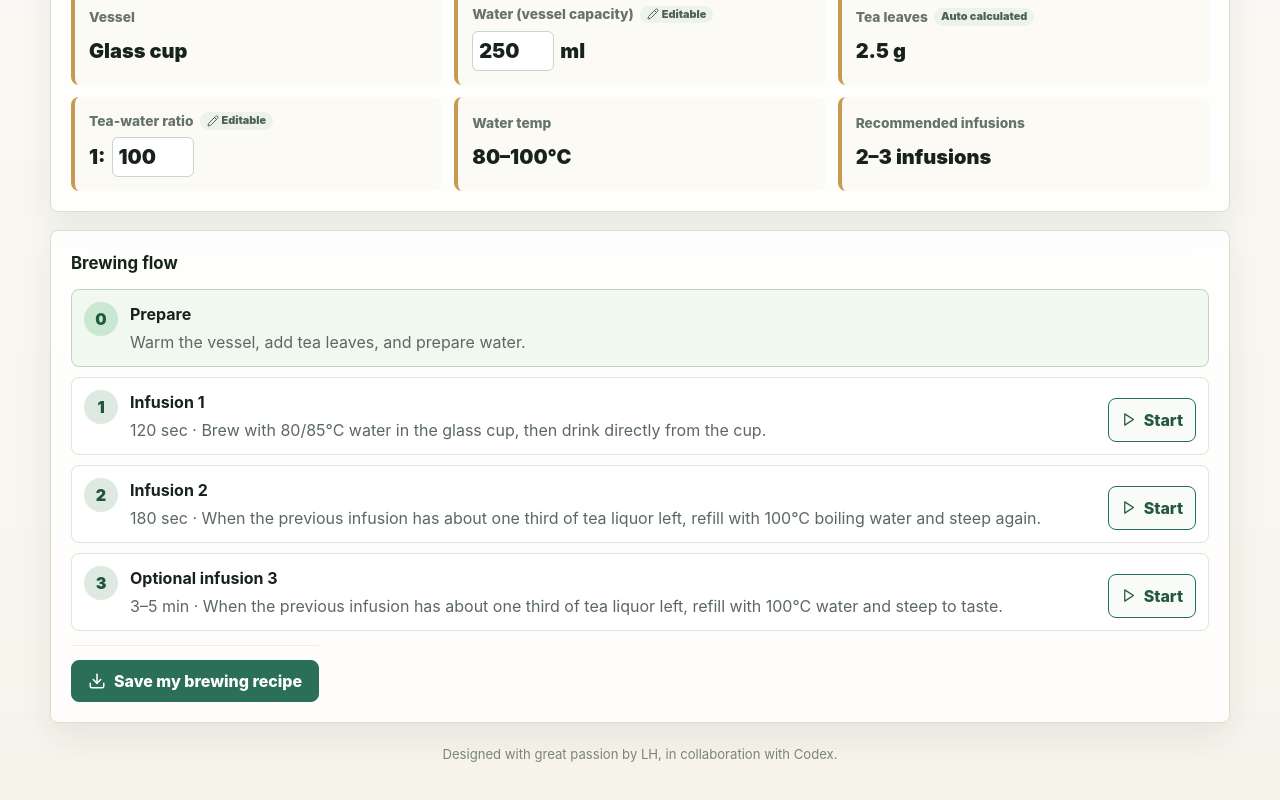
it: Tea Master app › keeps a closed running timer visible in its brewing step button
(page scrolled)
Expected: the list item "Infusion 1" is shown, [130, 392, 204, 412]
Step 1. Click the button "Start" in the row of "Infusion 1" → (1152, 420), box [1108, 398, 1196, 442]
Wait 1000 ms
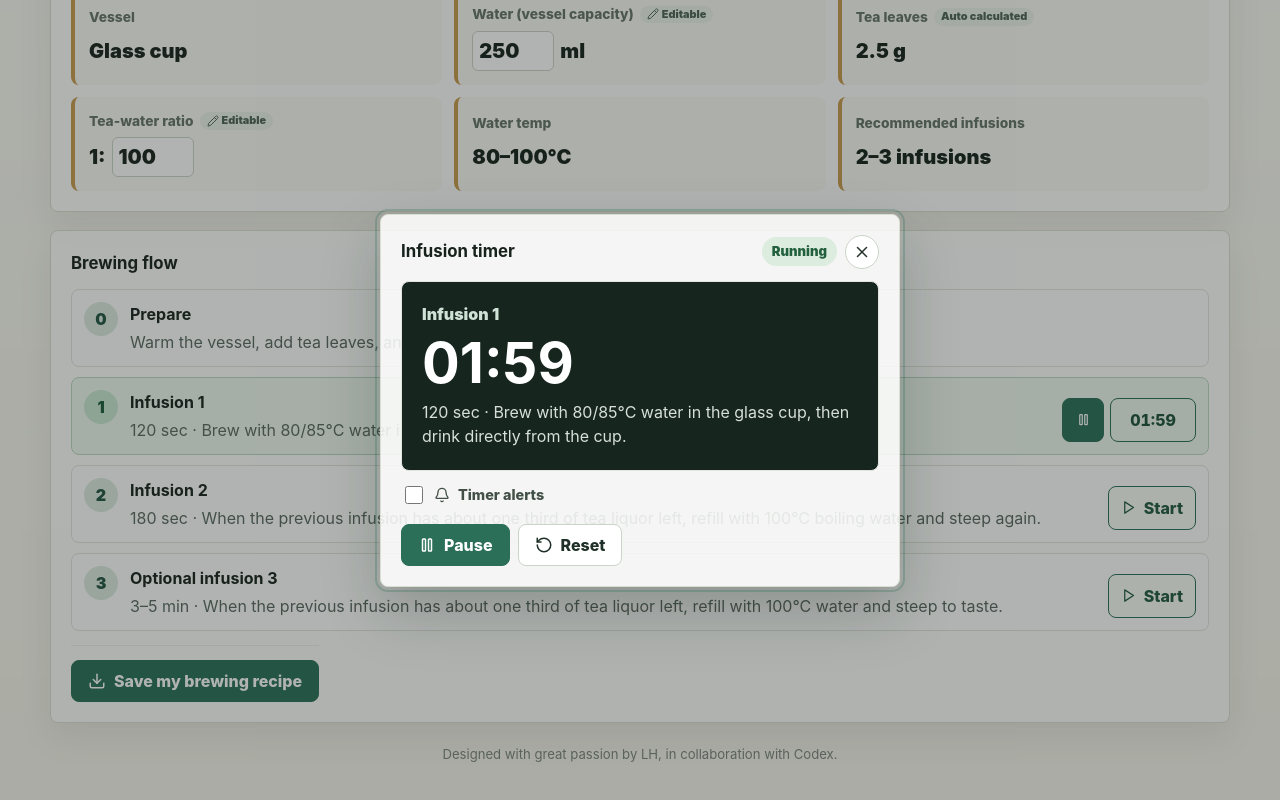
Result: the text with test id "timer-display" reads "01:59" at [422, 329, 574, 397]
Step 2. Click the button named "Close timer" → (862, 252), box [845, 234, 879, 268]
Wait 1000 ms
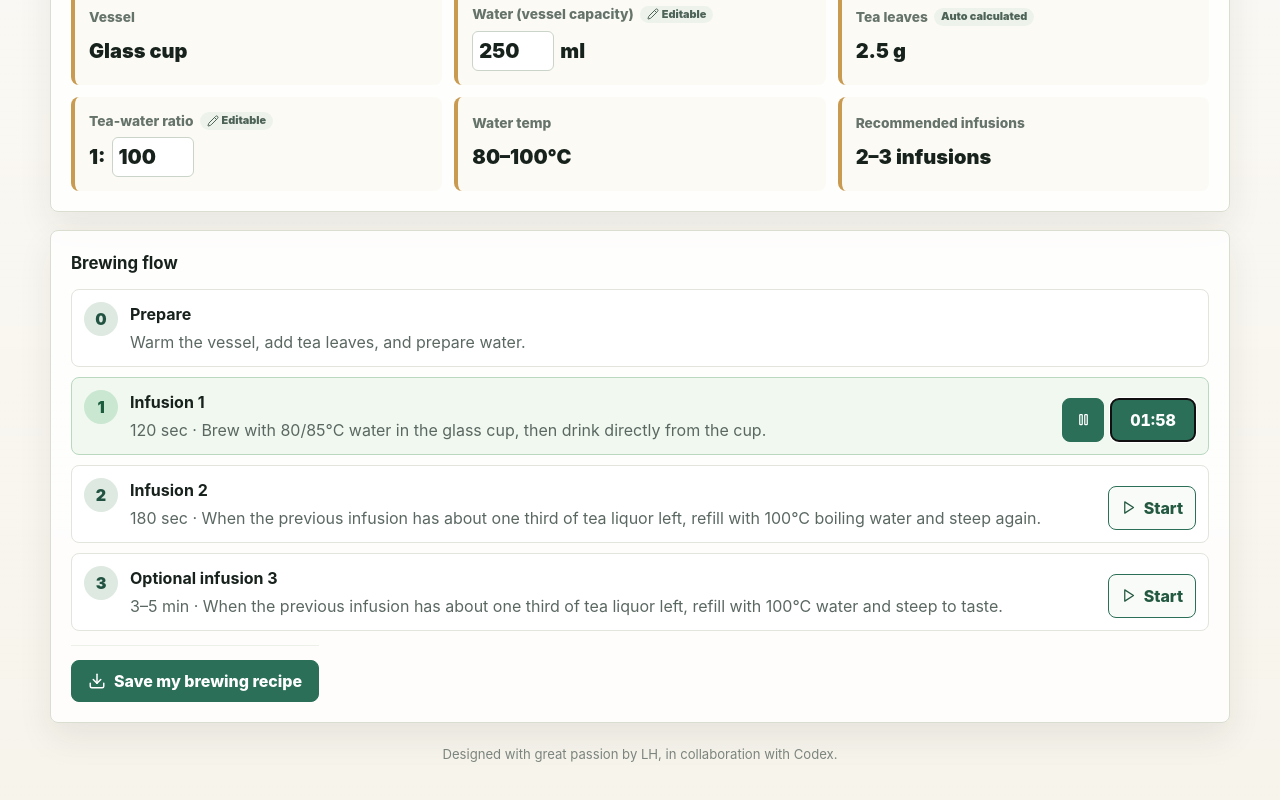
Result: the button named "Pause" is shown
Result: the heading "Infusion timer" is gone
Result: the button "01:58" is shown at [1110, 398, 1196, 442]
Step 3. Click the button named "Pause" → (1083, 420), box [1062, 398, 1104, 442]
Wait 3000 ms
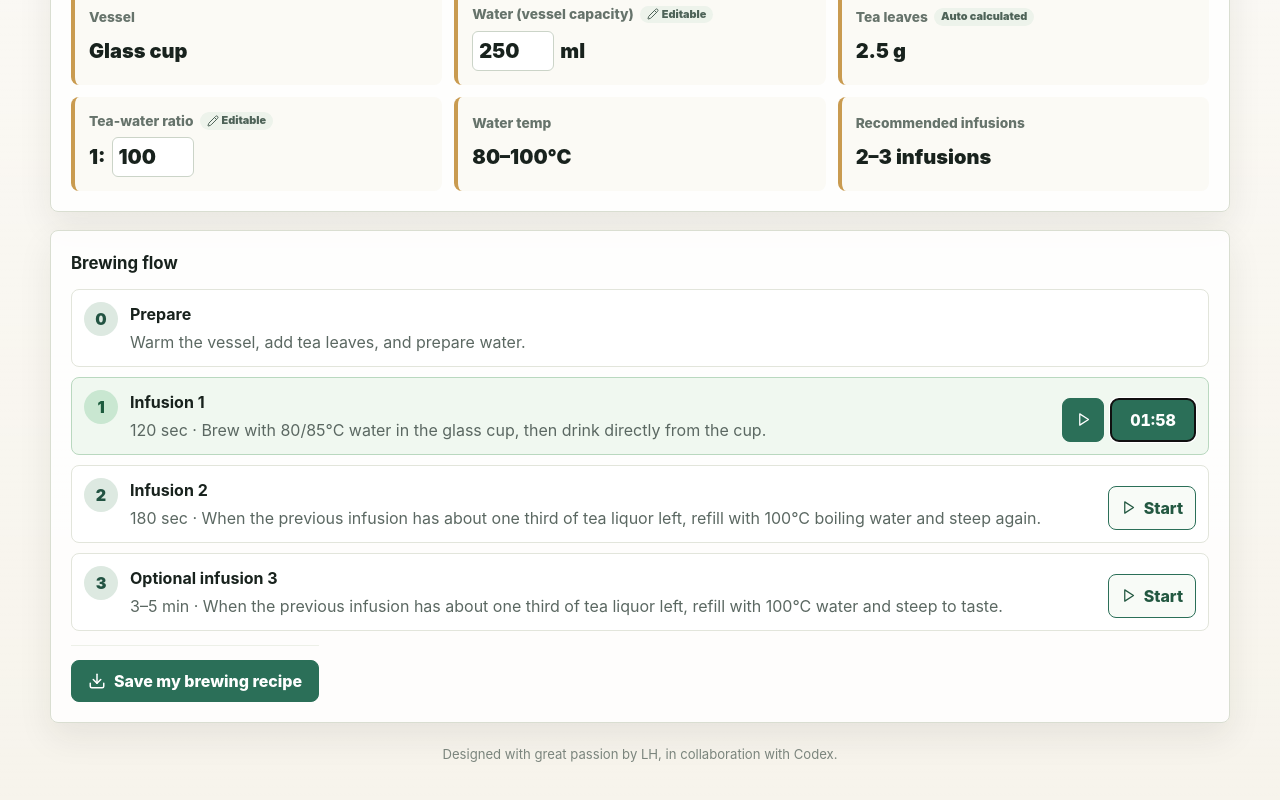
Result: the button "01:58" is shown at [1110, 398, 1196, 442]
Result: the button named "Resume" is shown
Step 4. Click the button named "Resume" → (1083, 420), box [1062, 398, 1104, 442]
Wait 1000 ms
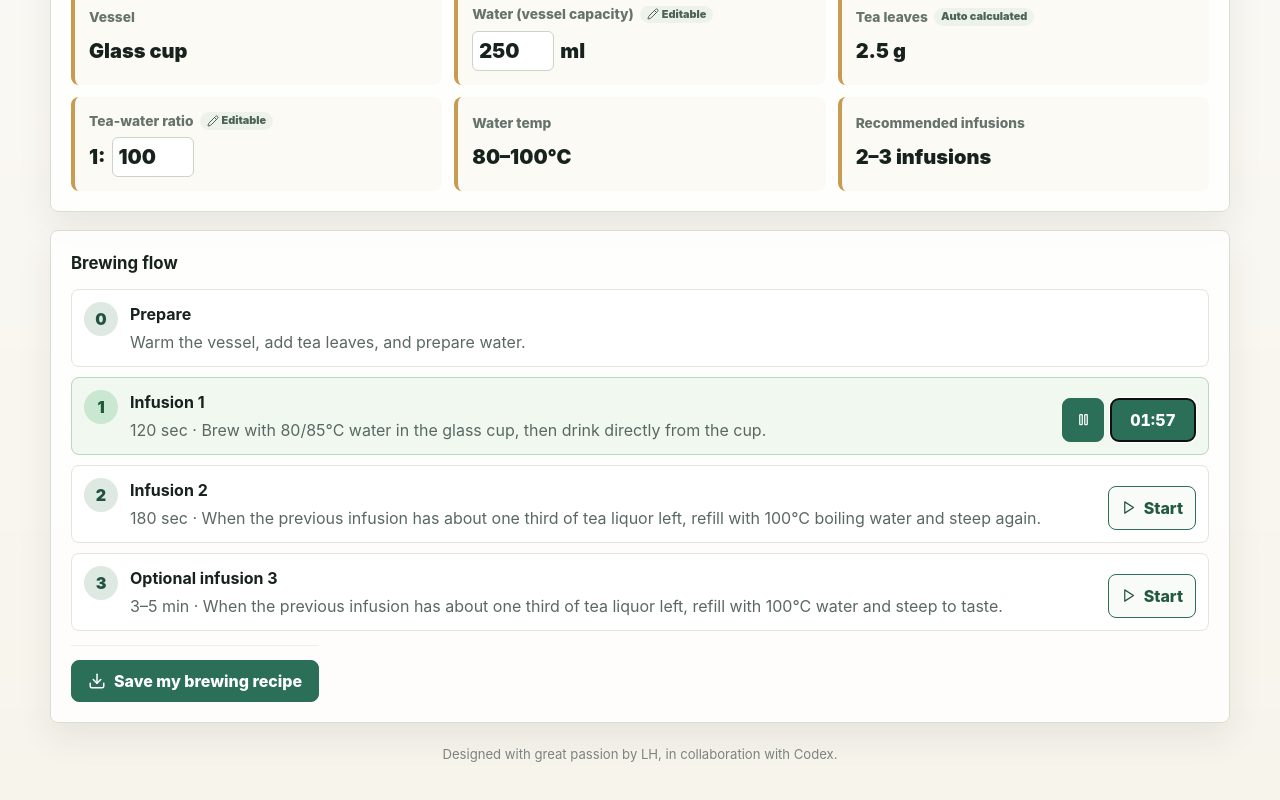
Result: the button "01:57" is shown
Step 5. Click the button "01:57" → (1153, 420), box [1110, 398, 1196, 442]
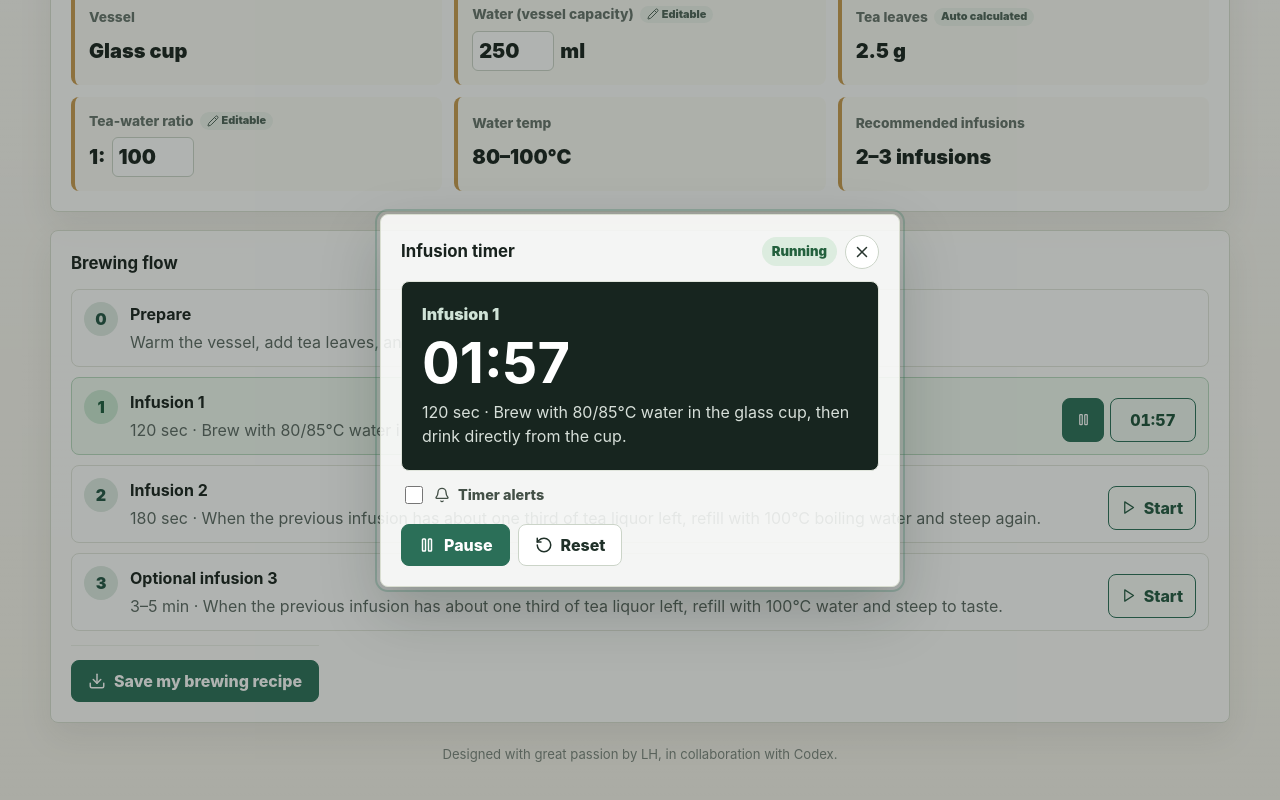
Result: the dialog "Infusion timer" is shown at [380, 214, 900, 586]
